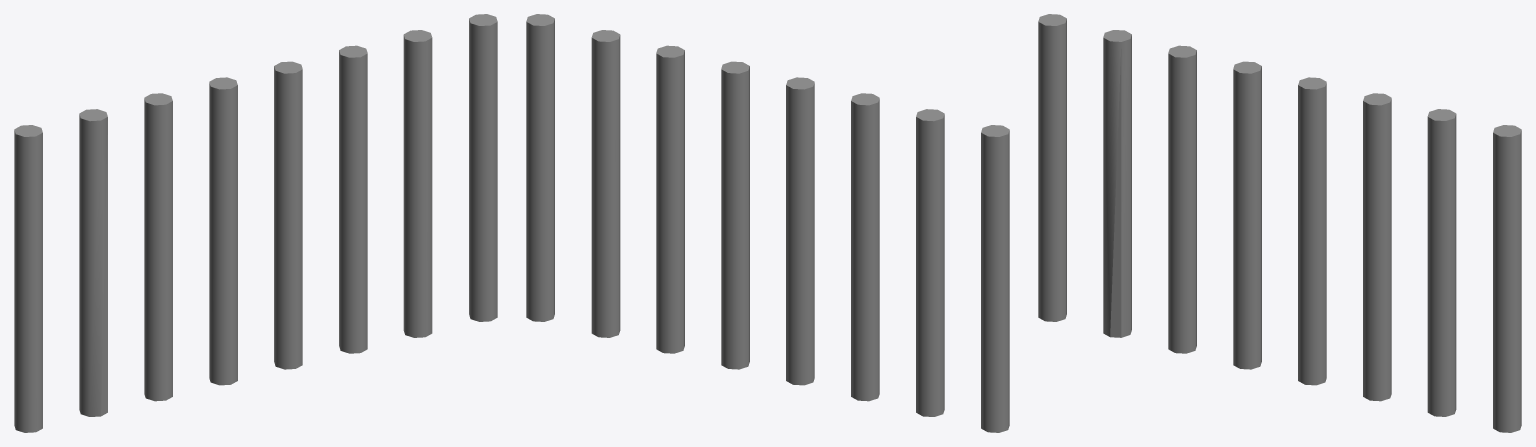
The model's file is Bars.FBX.
3 renders of one model, left to right at view 1: azimuth 30°, elevation 25°; view 2: azimuth 150°, elevation 25°; view 3: azimuth 330°, elevation 25°, orthographic.
Visible parts, largest first — view 1: cave_bars; view 2: cave_bars; view 3: cave_bars.
Boxes of the visible parts, <box> form: cave_bars: <box>14,14,497,432</box>; cave_bars: <box>526,14,1009,432</box>; cave_bars: <box>1038,14,1521,432</box>.
Size of the model in its own units: 434 by 255 by 23.21.
